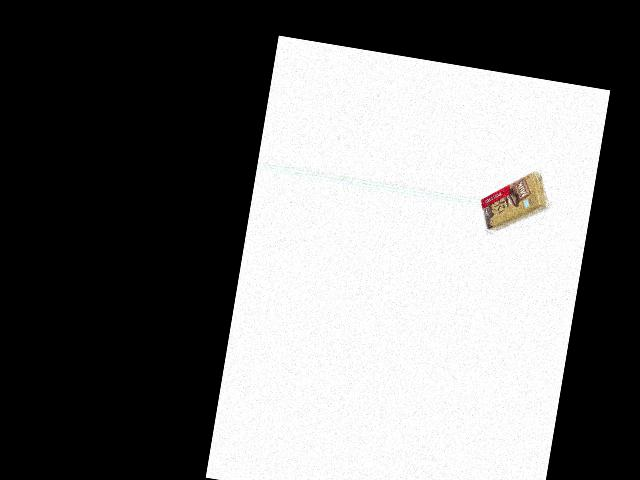chocolate: (477, 156, 555, 239)
